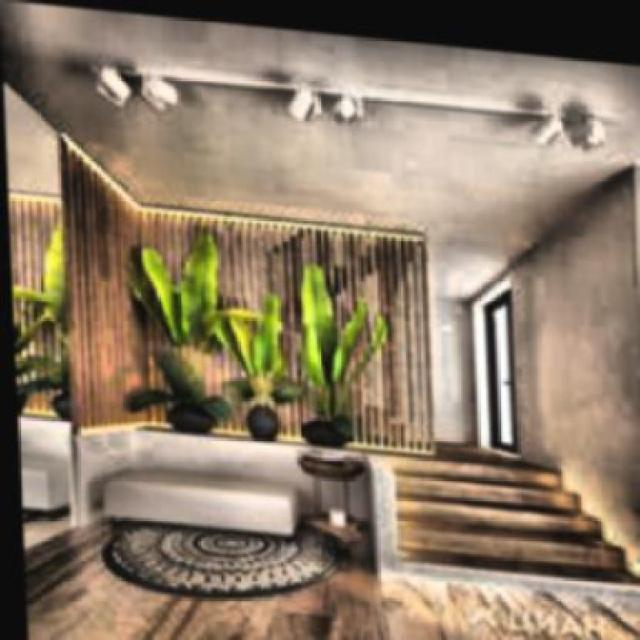stair: (354, 415, 638, 603)
